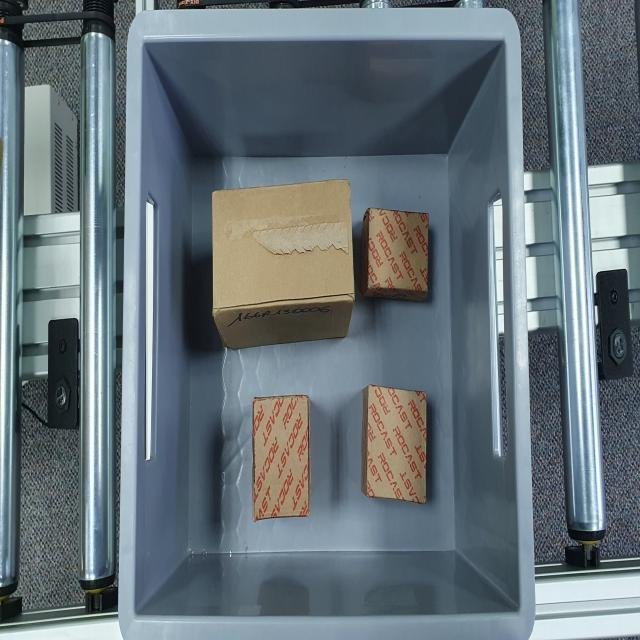box: (212, 172, 354, 342), (252, 393, 312, 522), (369, 384, 428, 504), (368, 202, 431, 298)
